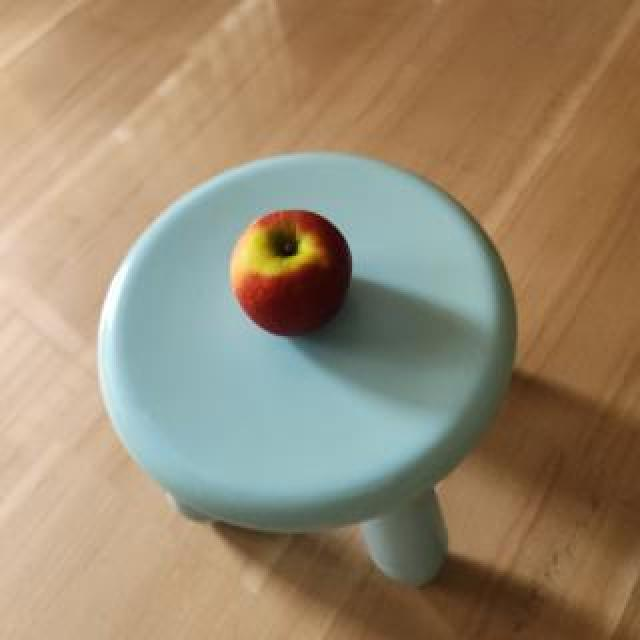Fresh Apple: (220, 200, 353, 343)
